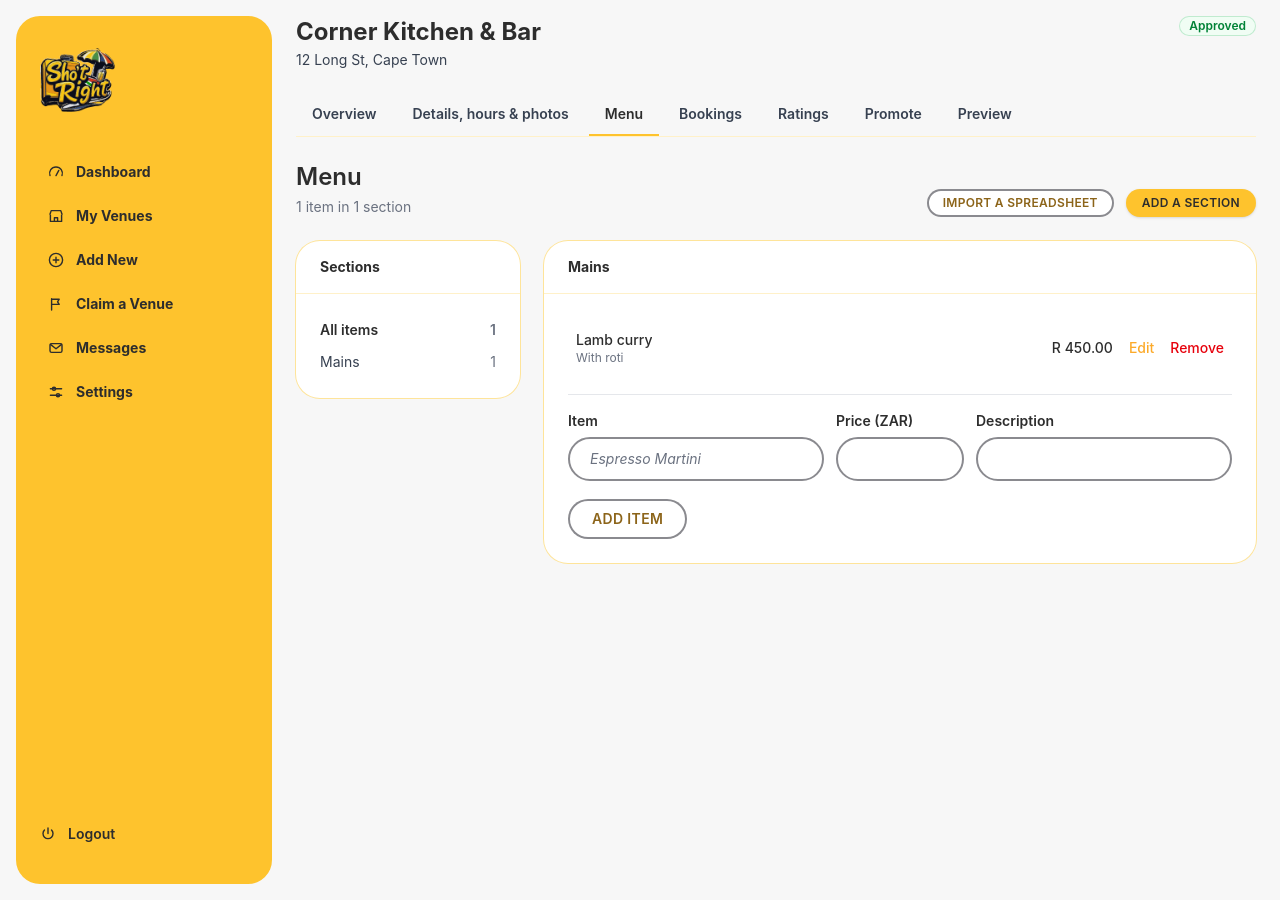
edit a menu item › changes the name and description too
Click the button with aria-label "edit lamb curry" at (1142, 348), box [1129,338,1154,358]
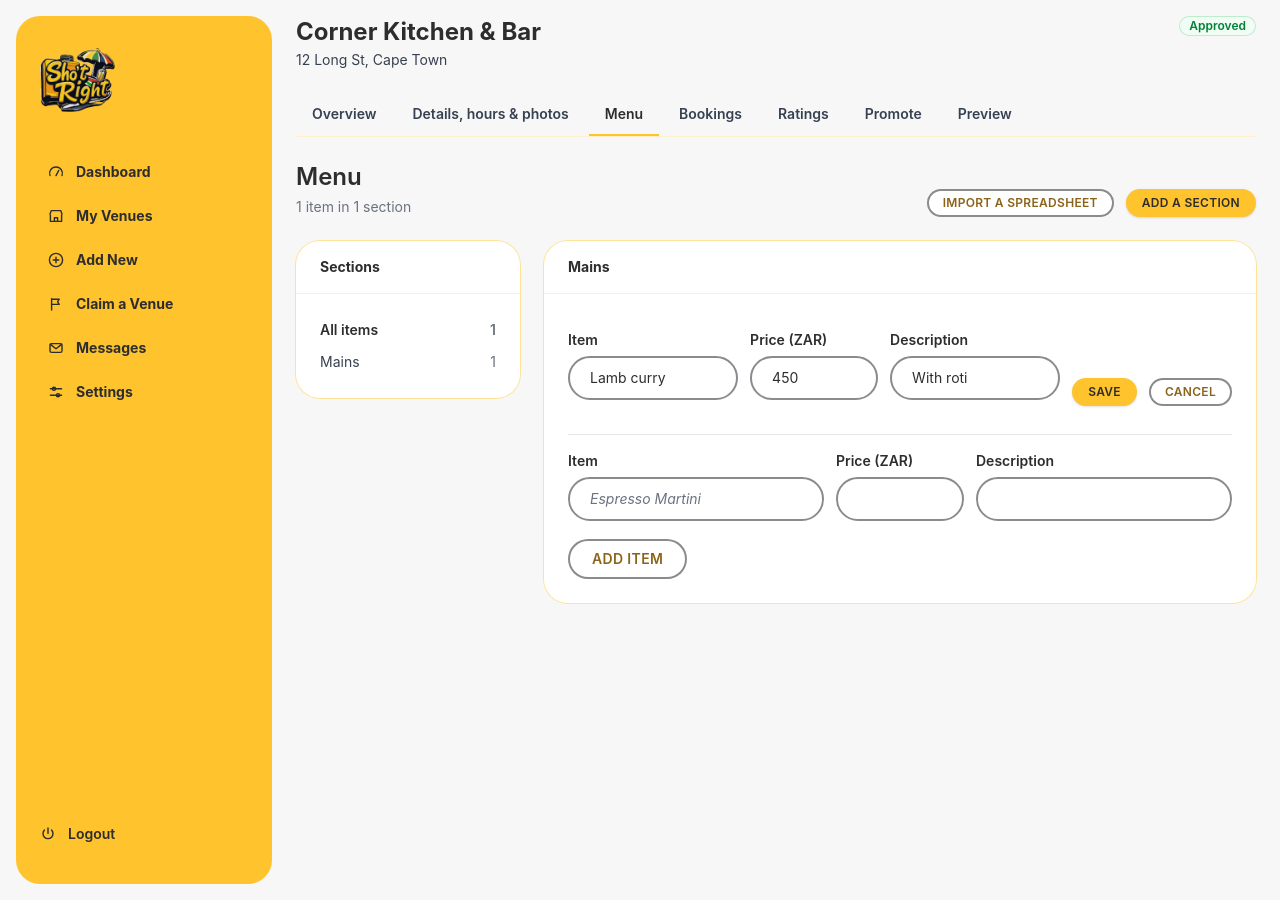
Replace the text in the 1st field labelled "Item" with "Mutton curry" at (653, 378), box [568,356,738,400]
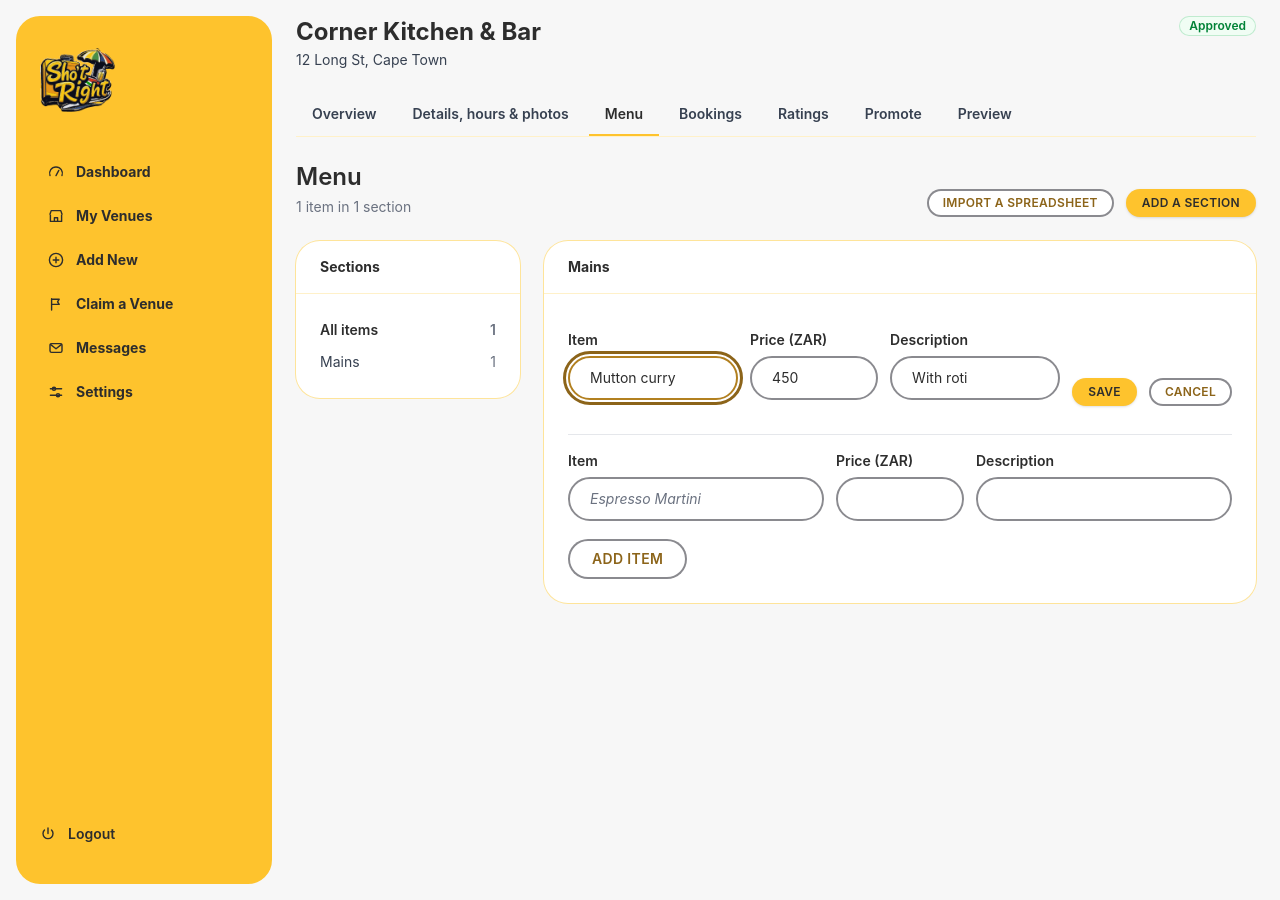
Click the button "Save" at (1105, 392), box [1072,378,1137,406]
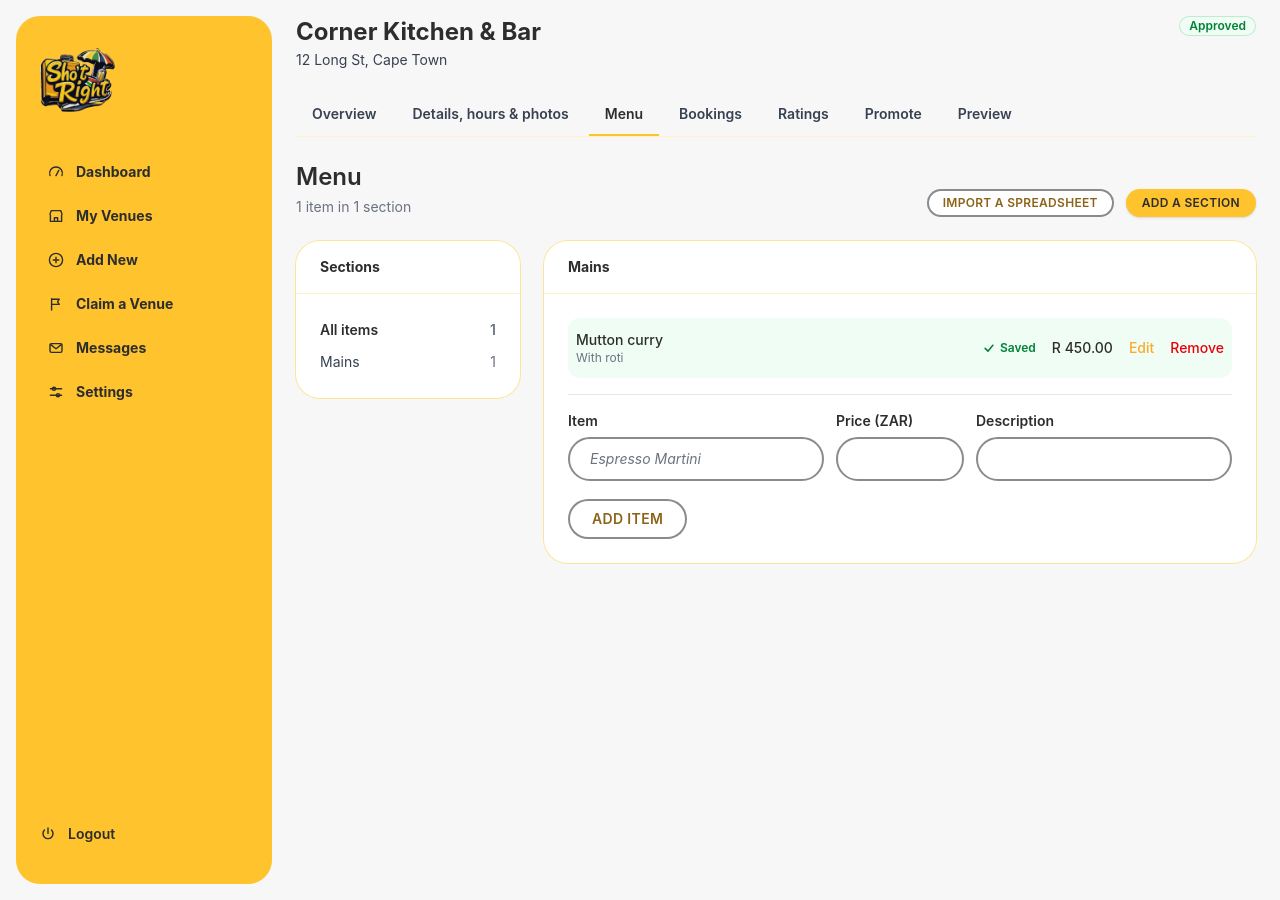
Result: the text "Mutton curry" is shown at [576,330,663,350]
